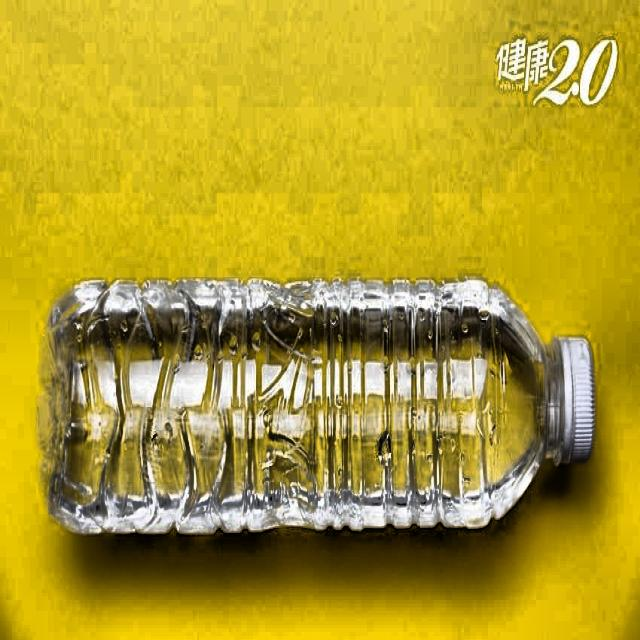Bottles: (39, 260, 608, 550)
